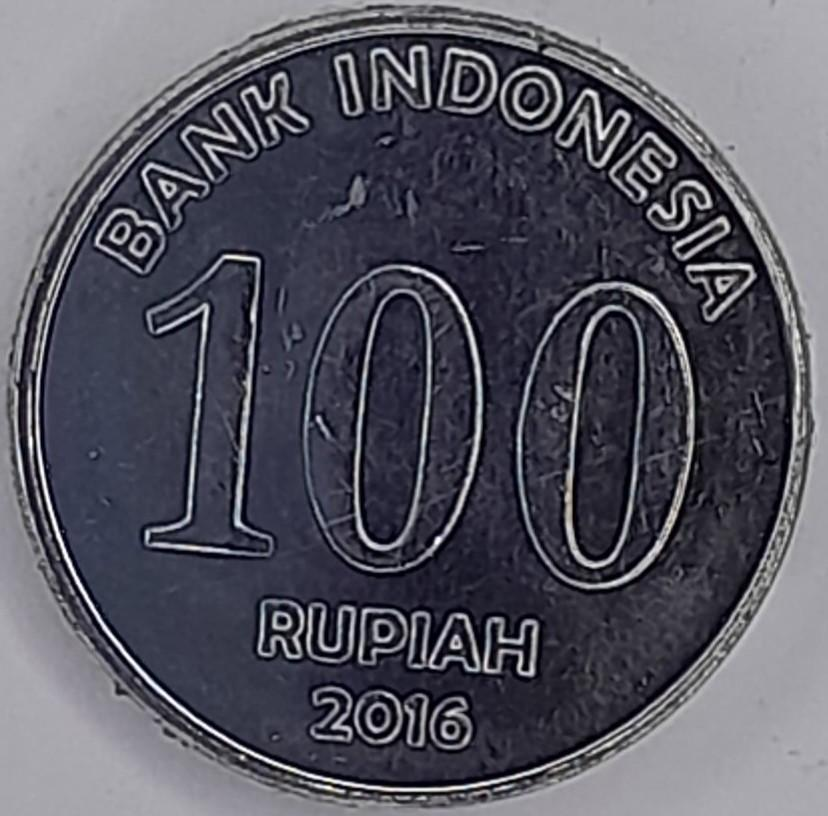coin_100_e2016: (2, 0, 820, 812)
